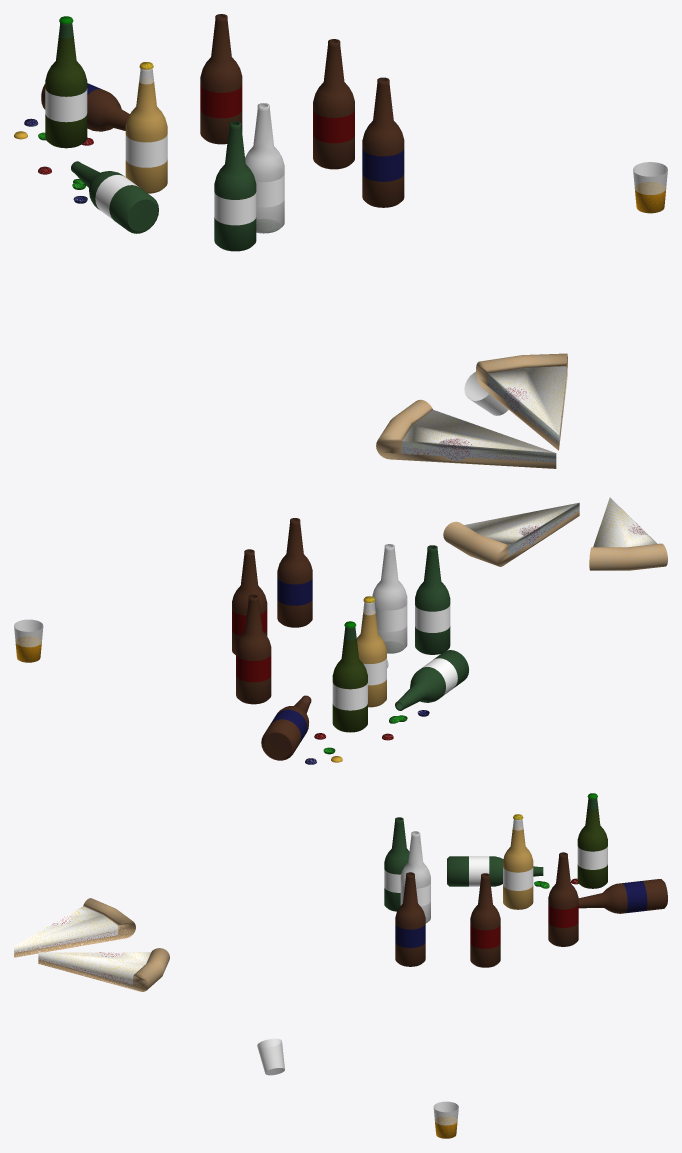
The model's file is bottlesAndMess.fbx.
3 renders of one model, top to bottom at view 1: azimuth 30°, elevation 25°; view 2: azimuth 150°, elevation 25°; view 3: azimuth 270°, elevation 25°, orthographic. The views are drawn at different scales.
Visible parts, largest first — view 1: Component_1_2, Component_1_1, Group_36_2, Group_35_1, Group_40_2, Group_22_1, Group_23_1, Group_40_1, Group_42_1, Group_35_2, Group_36_1, Group9 (+1 smaller); view 2: Component_1_1, Component_1_2, Group_40_1, Group_36_2, Group_35_1, Group_22_1, Group_42_1, Group_35_2, Group_23_1, Group_36_1, Group_40_2, Group9; view 3: Component_1_1, Component_1_2, Group_36_1, Group_40_2, Group_40_1, Group_36_2, Group_22_1, Group_23_1, Group_35_2, Group_35_1, Group_42_1, Group9 (+1 smaller).
Part boxes in pixels (<box>): Component_1_2: <box>376,399,556,468</box>; Component_1_1: <box>476,353,567,450</box>; Group_36_2: <box>362,77,404,207</box>; Group_35_1: <box>214,121,256,251</box>; Group_40_2: <box>313,39,354,169</box>; Group_22_1: <box>45,23,87,148</box>; Group_23_1: <box>125,68,167,193</box>; Group_40_1: <box>200,14,242,144</box>; Group_42_1: <box>245,103,284,233</box>; Group_35_2: <box>71,161,158,233</box>; Group_36_1: <box>41,83,129,131</box>; Group9: <box>633,162,667,213</box>; Component_1_1: <box>443,502,579,566</box>; Component_1_2: <box>589,497,667,570</box>; Group_40_1: <box>236,594,271,704</box>; Group_36_2: <box>277,518,312,627</box>; Group_35_1: <box>415,545,450,654</box>; Group_22_1: <box>332,627,367,732</box>; Group_42_1: <box>372,544,407,653</box>; Group_35_2: <box>395,650,468,710</box>; Group_23_1: <box>356,602,386,707</box>; Group_36_1: <box>261,695,311,760</box>; Group_40_2: <box>232,549,267,654</box>; Group9: <box>14,619,43,662</box>; Component_1_1: <box>38,948,169,991</box>; Component_1_2: <box>14,898,135,957</box>; Group_36_1: <box>578,879,667,913</box>; Group_40_2: <box>470,873,500,967</box>; Group_40_1: <box>548,852,578,946</box>; Group_36_2: <box>395,872,425,966</box>; Group_22_1: <box>577,798,607,888</box>; Group_23_1: <box>503,819,533,909</box>; Group_35_2: <box>447,856,543,886</box>; Group_35_1: <box>384,817,409,911</box>; Group_42_1: <box>400,831,430,923</box>; Group9: <box>433,1101,458,1138</box>.
Bounding box in the file's own units: 1.13 × 0.572 × 1.64.
